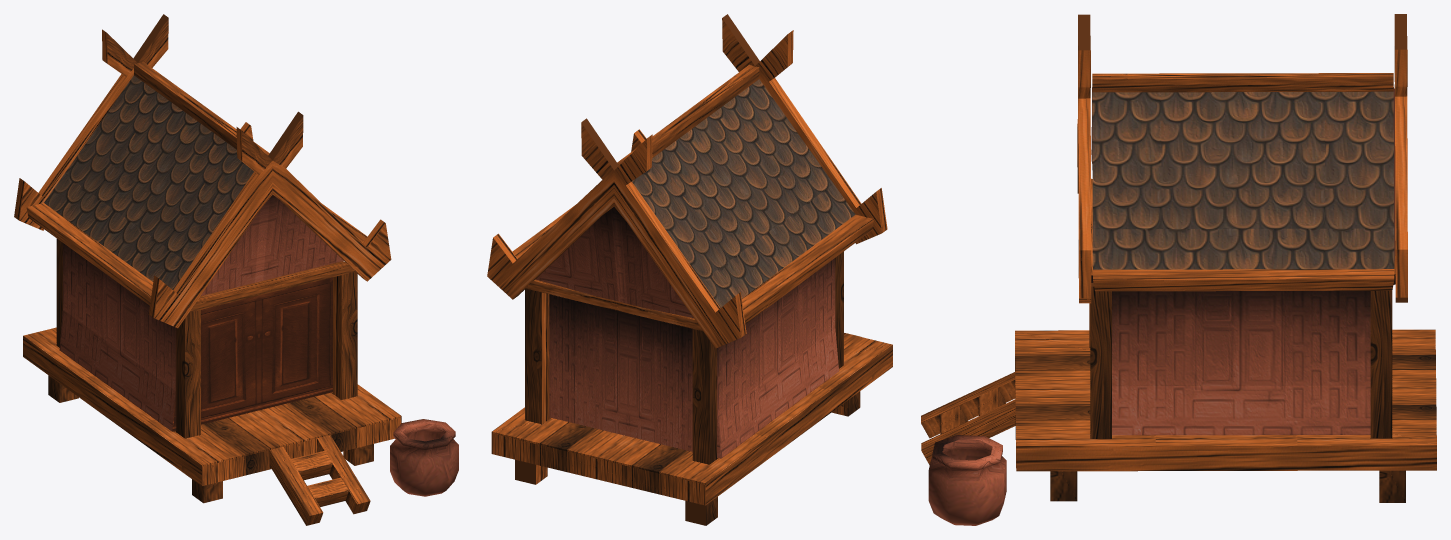
The model's file is house.glb.
3 views of the same model, side by side, from view 1: azimuth 30°, elevation 25°; view 2: azimuth 150°, elevation 25°; view 3: azimuth 270°, elevation 25° (orthographic). The views are drawn at different scales.
Visible parts, largest first — view 1: Cube.004_0; view 2: Cube.004_0; view 3: Cube.004_0.
Part boxes in pixels (box(x1,y1,x2,y2)): Cube.004_0: box(14, 14, 458, 525); Cube.004_0: box(487, 14, 892, 525); Cube.004_0: box(921, 14, 1436, 525).
Bounding box in the file's own units: 2.81 × 3.76 × 4.18.
Materials: 6 (5 with a texture image).
